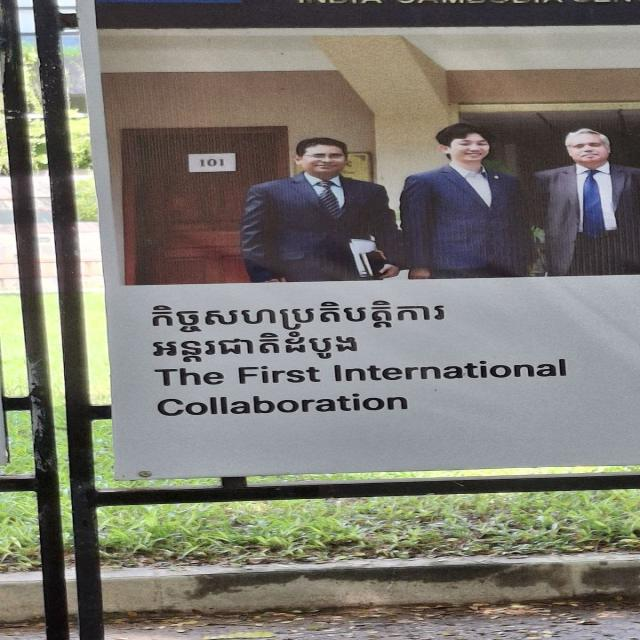Yolov11_80vkh: (132, 291, 475, 368)
